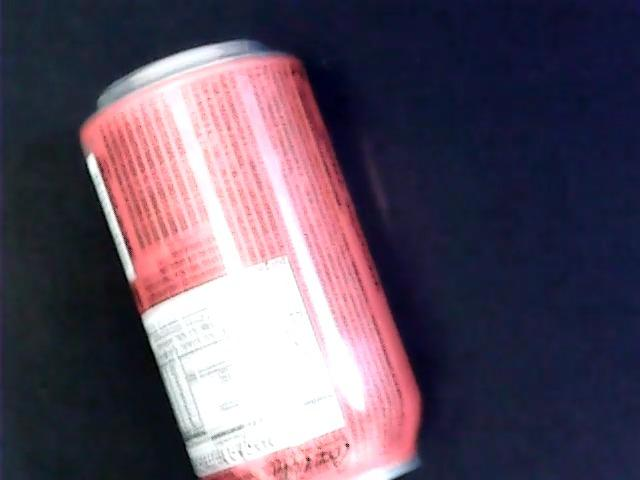coke: (90, 55, 409, 467)
